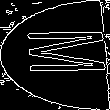M_E: (5, 31, 105, 79)
